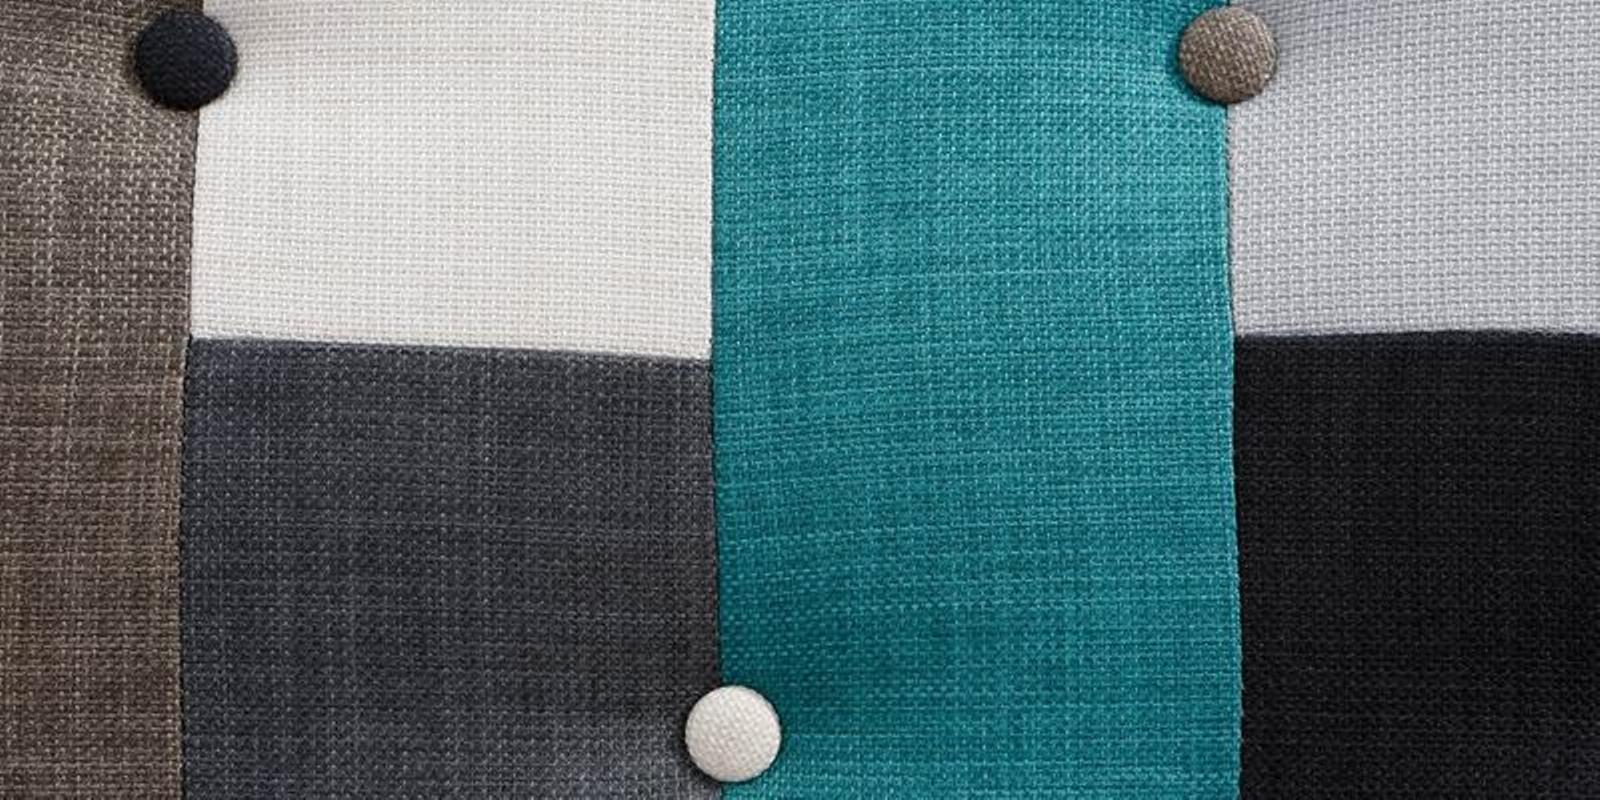Frida Three Seater Sofa in Red Multi Colour by CasaCraft: (3, 5, 1588, 799)
